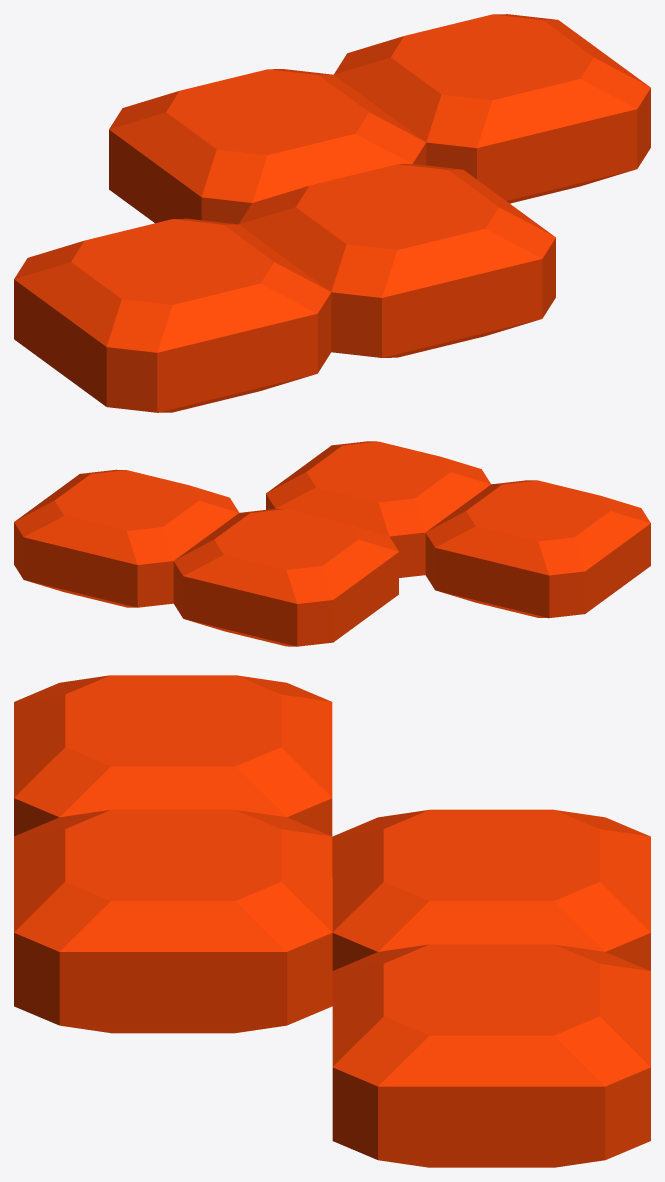
3 views of the same model, one above another, from view 1: azimuth 30°, elevation 25°; view 2: azimuth 150°, elevation 25°; view 3: azimuth 270°, elevation 25° (orthographic). The views are drawn at different scales.
Parts seen in each view (by area): view 1: Cube.020; view 2: Cube.020; view 3: Cube.020.
Part boxes in pixels (x1=…): Cube.020: x1=14, y1=14, x2=650, y2=412; Cube.020: x1=14, y1=441, x2=650, y2=646; Cube.020: x1=14, y1=675, x2=650, y2=1167.
Bounding box in the file's own units: 1.5 × 0.2288 × 1.
1 material, 1 textured.
